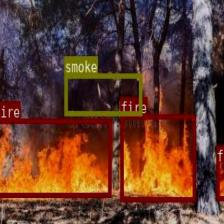fire: (0, 117, 111, 197), (120, 114, 195, 201), (216, 145, 224, 199)
smoke: (64, 72, 141, 116)
